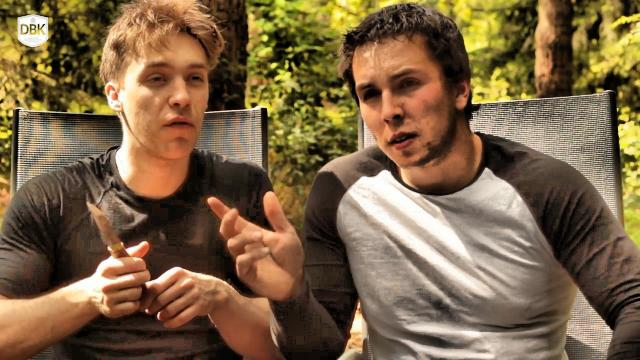knife: (75, 196, 152, 290)
